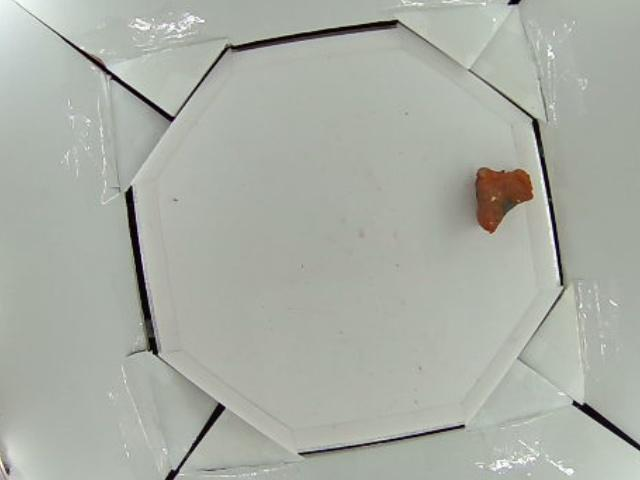Brisk: (473, 167, 534, 234)
